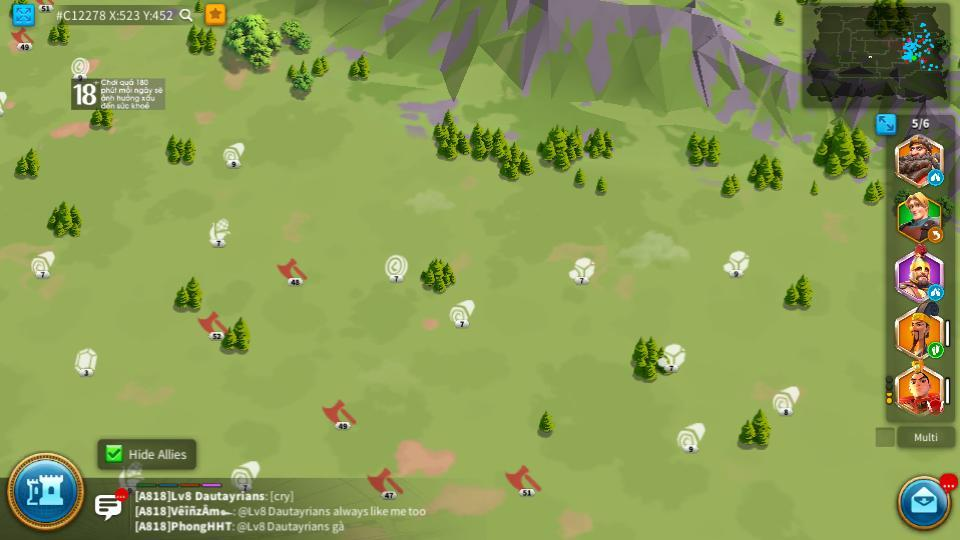gem-z-out: (72, 349, 99, 376), (69, 57, 98, 79), (0, 90, 8, 105)
march_attacking: (927, 402, 945, 414)
march_idle: (929, 284, 942, 299), (928, 173, 942, 186)
march_marching: (928, 345, 942, 358)
march_returning: (929, 229, 942, 241)
